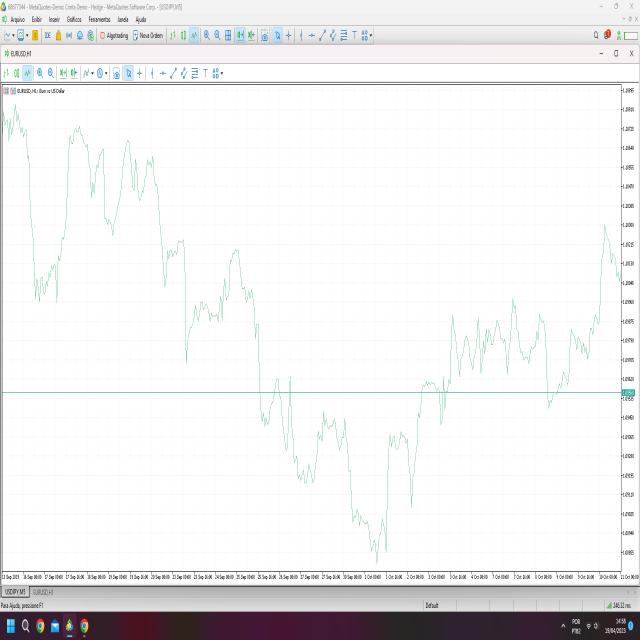bandeira_alta: (564, 320, 592, 398)
bandeira_baixa: (24, 117, 54, 316), (149, 146, 184, 292), (180, 234, 217, 364)
oco: (212, 234, 262, 334)
oco_inv: (283, 332, 436, 569)
topo_duplo: (109, 128, 166, 256), (61, 113, 111, 248)
